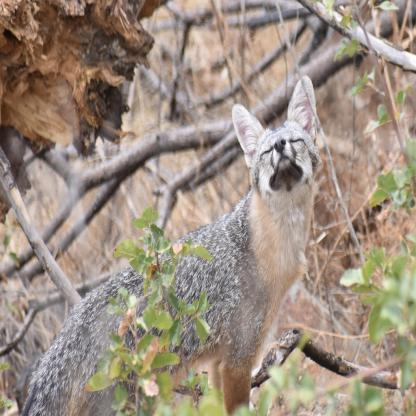zorro: (11, 73, 326, 415)
